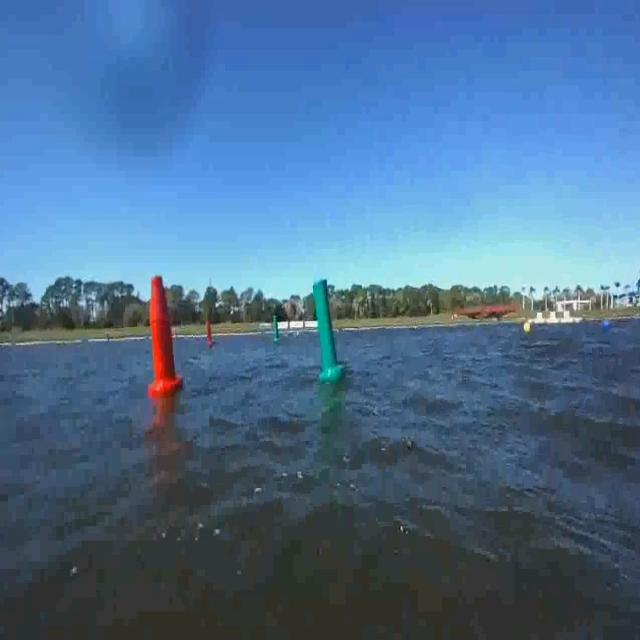blue-buoy: (601, 318, 611, 334)
green-column-buoy: (310, 280, 346, 384), (273, 318, 282, 346)
red-column-buoy: (146, 272, 182, 398), (206, 319, 214, 345)
yellow-buoy: (524, 319, 532, 335)
